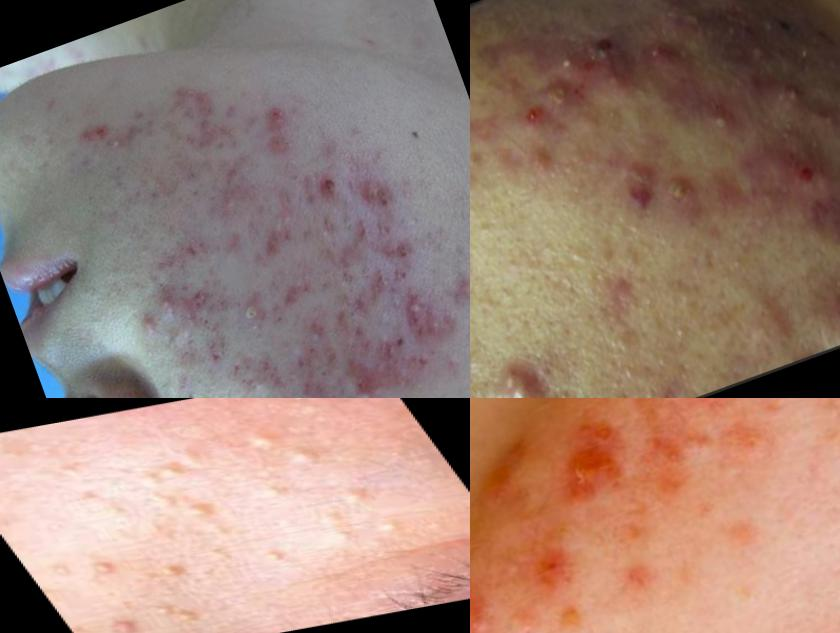acne_scars: (514, 526, 599, 618), (681, 399, 757, 433)
cystic: (637, 31, 699, 90)
milium: (87, 447, 226, 499), (81, 594, 229, 633), (136, 482, 237, 532), (306, 502, 405, 547), (246, 430, 328, 478), (72, 554, 137, 589), (323, 482, 384, 517), (142, 559, 199, 585), (253, 548, 301, 571)
papular: (544, 421, 637, 523), (607, 148, 679, 225), (471, 549, 516, 633), (515, 142, 568, 193), (122, 302, 166, 349), (815, 281, 840, 352)
purulent: (694, 89, 753, 141), (146, 282, 191, 328)
sebo-crystan-conglo: (753, 127, 840, 226), (401, 273, 468, 350), (544, 26, 628, 83), (353, 158, 412, 222), (756, 68, 820, 125), (480, 352, 552, 399), (661, 160, 714, 207), (535, 76, 583, 119), (695, 1, 775, 10)
whitehead: (716, 240, 774, 283), (662, 309, 692, 352), (474, 215, 510, 248), (559, 234, 591, 269), (634, 282, 665, 317), (311, 214, 339, 248), (350, 376, 383, 399)
